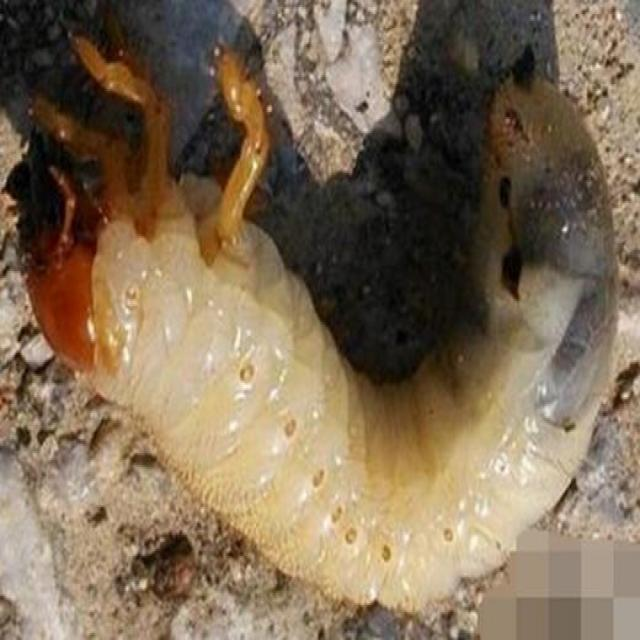Grub-Adult-: (18, 30, 620, 617)
